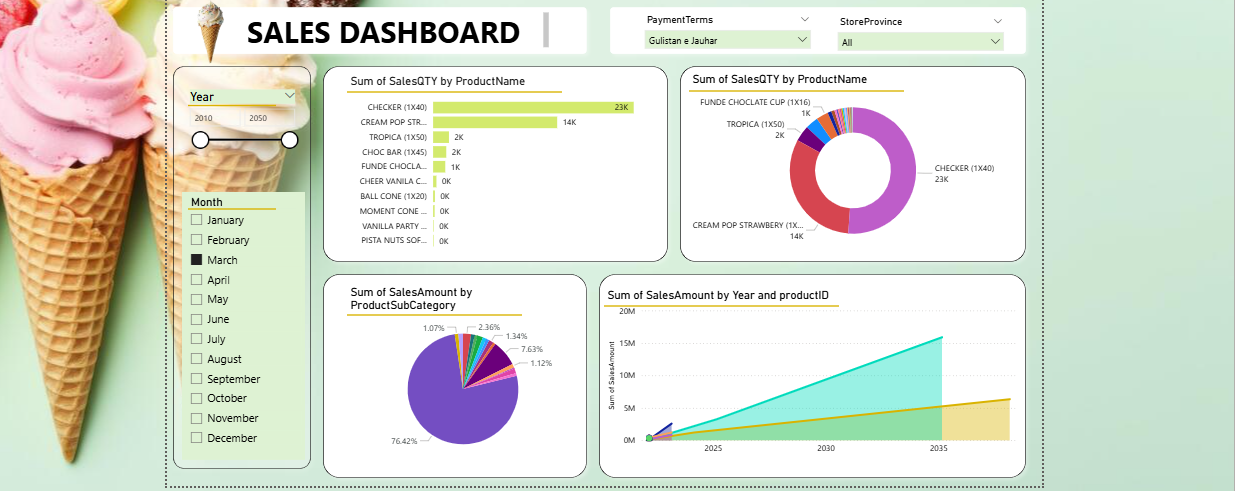

Layout of this report page (visuals, bound fields, positions):
{"tool":"powerbi","page":{"name":"Product","canvas":[1280,720],"ordinal":1},"visuals":[{"type":"shape","box":[0,10.8,623.1,86.2],"z":0},{"type":"shape","box":[640,10.8,626.2,86.2],"z":1000},{"type":"shape","box":[0,96.6,219.5,607.3],"z":4000},{"type":"shape","box":[623.4,401,642.4,316.1],"z":7000},{"type":"slicer","fields":{"Values":["dim_date.date.Variation.Date Hierarchy.Month"]},"box":[21.5,289.2,180,392.3],"z":13000},{"type":"slicer","fields":{"Values":["dim_date.date.Variation.Date Hierarchy.Year"]},"box":[20.5,134.6,180,153.7],"z":14000},{"type":"textbox","box":[112.7,22,450.7,64.4],"z":18000},{"type":"shape","box":[30.7,288.3,128.8,52.7],"z":19000},{"type":"shape","box":[30.7,142,128.8,42.4],"z":20000},{"type":"slicer","fields":{"Values":["Ikp_payment.PaymentTerms"]},"box":[689.3,24.9,263.4,55.6],"z":27000},{"type":"slicer","fields":{"Values":["dim_store.StoreProvince"]},"box":[971.7,27.8,263.4,55.6],"z":28000},{"type":"image","box":[0,0,127.3,109.8],"z":29000},{"type":"shape","box":[219.5,96.6,522.4,304.4],"z":29001},{"type":"shape","box":[742,96.6,523.9,304.4],"z":29002},{"type":"shape","box":[219.5,401,403.9,316.1],"z":29003},{"type":"pieChart","fields":{"Y":["Sum(fact_sales.SalesAmount)"],"Series":["dim_product.ProductSubCategory"]},"box":[263.4,425.9,339.5,266.3],"z":29004},{"type":"barChart","fields":{"Category":["dim_product.ProductName"],"Y":["Sum(fact_sales.SalesQTY)"]},"box":[263.4,117.1,452.2,266.3],"z":29005},{"type":"donutChart","fields":{"Y":["Sum(fact_sales.SalesQTY)"],"Category":["dim_product.ProductName"]},"box":[763.9,114.1,480,269.3],"z":29006},{"type":"shape","box":[263.4,117.1,314.6,52.7],"z":29007},{"type":"shape","box":[263.4,443.4,256.1,52.7],"z":29008},{"type":"shape","box":[763.9,115.6,314.6,52.7],"z":29009},{"type":"areaChart","fields":{"Category":["dim_date.date.Variation.Date Hierarchy.Year"],"Series":["dim_product.productID"],"Y":["Sum(fact_sales.SalesAmount)"]},"box":[639.5,430.2,611.7,262],"z":29010},{"type":"shape","box":[639.5,430.2,343.9,52.7],"z":29011}]}

Visuals, with their boxes on the page's 1280x720 design canvas (x1, y1, x2, y2). These are canvas units, not pixel positions in the 1237x491 screenshot, which may show the page scaled, cropped or inside an application window:
shape: Rect(0, 11, 623, 97)
shape: Rect(640, 11, 1266, 97)
shape: Rect(0, 97, 220, 704)
shape: Rect(623, 401, 1266, 717)
slicer - dim_date.date.Variation.Date Hierarchy.Month: Rect(22, 289, 202, 682)
slicer - dim_date.date.Variation.Date Hierarchy.Year: Rect(20, 135, 200, 288)
textbox: Rect(113, 22, 563, 86)
shape: Rect(31, 288, 160, 341)
shape: Rect(31, 142, 160, 184)
slicer - Ikp_payment.PaymentTerms: Rect(689, 25, 953, 80)
slicer - dim_store.StoreProvince: Rect(972, 28, 1235, 83)
image: Rect(0, 0, 127, 110)
shape: Rect(220, 97, 742, 401)
shape: Rect(742, 97, 1266, 401)
shape: Rect(220, 401, 623, 717)
pieChart - Sum(fact_sales.SalesAmount) x dim_product.ProductSubCategory: Rect(263, 426, 603, 692)
barChart - dim_product.ProductName x Sum(fact_sales.SalesQTY): Rect(263, 117, 716, 383)
donutChart - Sum(fact_sales.SalesQTY) x dim_product.ProductName: Rect(764, 114, 1244, 383)
shape: Rect(263, 117, 578, 170)
shape: Rect(263, 443, 520, 496)
shape: Rect(764, 116, 1078, 168)
areaChart - dim_date.date.Variation.Date Hierarchy.Year x dim_product.productID: Rect(640, 430, 1251, 692)
shape: Rect(640, 430, 983, 483)
